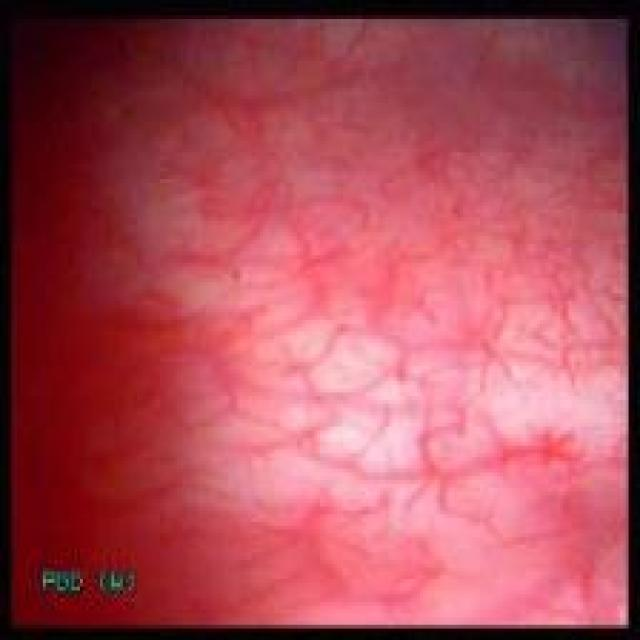color misalignment: (93, 567, 137, 596), (38, 567, 83, 593)
contrast: (12, 16, 130, 624)
saturation: (242, 296, 625, 509)
